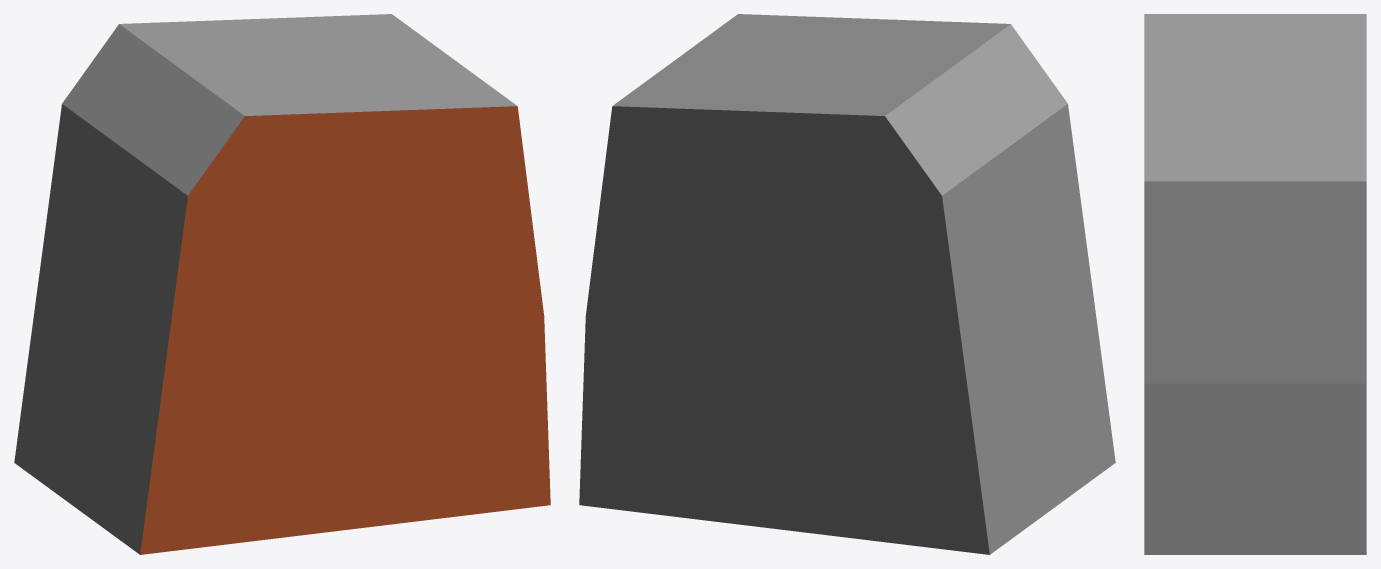
File: construction_0294_assumed_A_Casa_h6m.obj
The picture shows the model from 3 angles, left to right: view 1: azimuth 30°, elevation 25°; view 2: azimuth 150°, elevation 25°; view 3: azimuth 270°, elevation 25°; orthographic projection. The views are drawn at different scales.
Visible parts, largest first — view 1: construction_0294_assumed_A_Casa; view 2: construction_0294_assumed_A_Casa; view 3: construction_0294_assumed_A_Casa.
Part boxes in pixels (bbox=[...]): construction_0294_assumed_A_Casa: bbox=[14, 14, 550, 554]; construction_0294_assumed_A_Casa: bbox=[579, 14, 1115, 554]; construction_0294_assumed_A_Casa: bbox=[1144, 14, 1366, 554].
Bounding box in the file's own units: 11.3 × 12.19 × 6.
